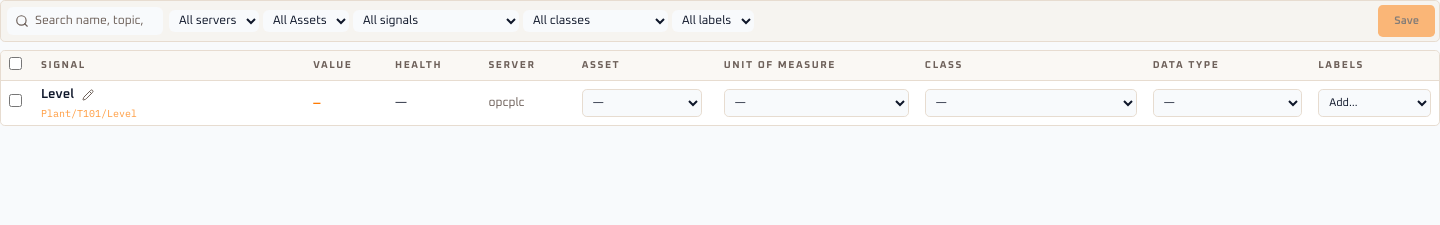
it: SignalsTab › shows a rose banner when bulk apply fails
The image size is (1440, 225).
Check: the button "Level" is shown, box [41,86,74,104]
Click the checkbox named "select level" at (16, 100), box [9,94,22,107]
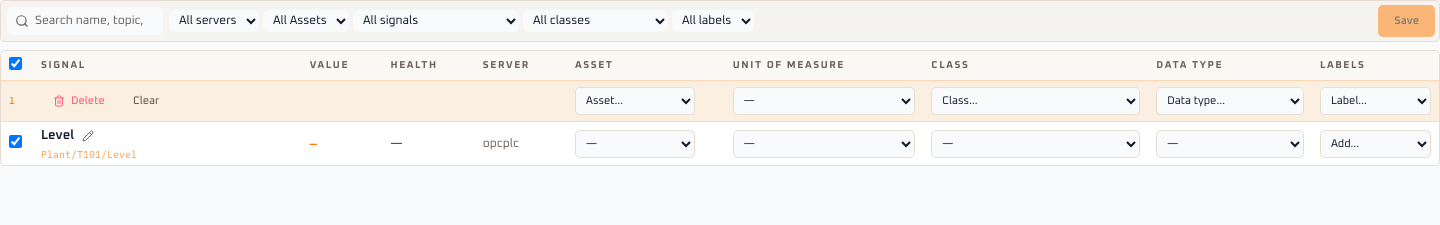
Select "°C" in the dropdown named "Apply Unit of Measure" at (824, 101), box [733,87,915,115]
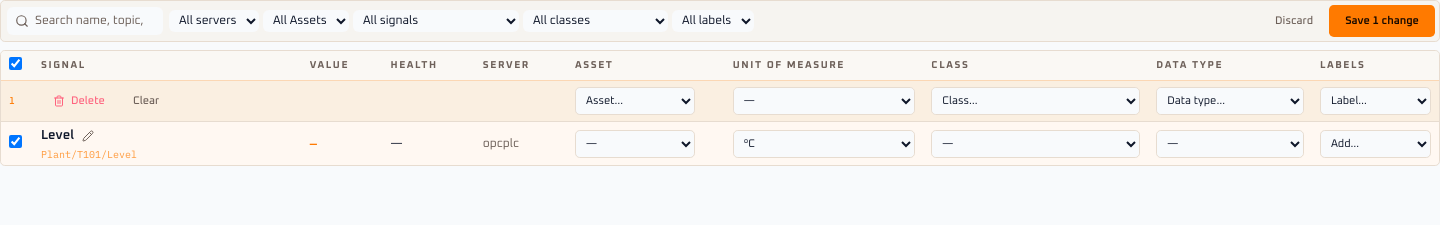
Click the button with aria-label "save signal changes" at (1382, 21), box [1329,5,1435,37]
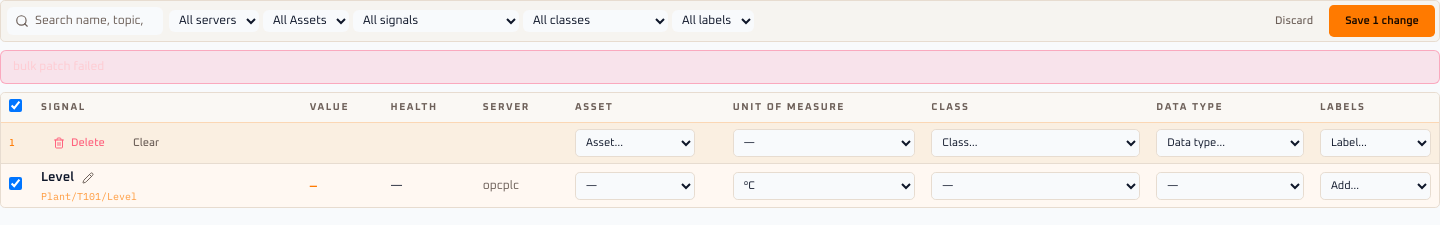
Check: the text "bulk patch failed" is shown, box [0,50,1439,84]
